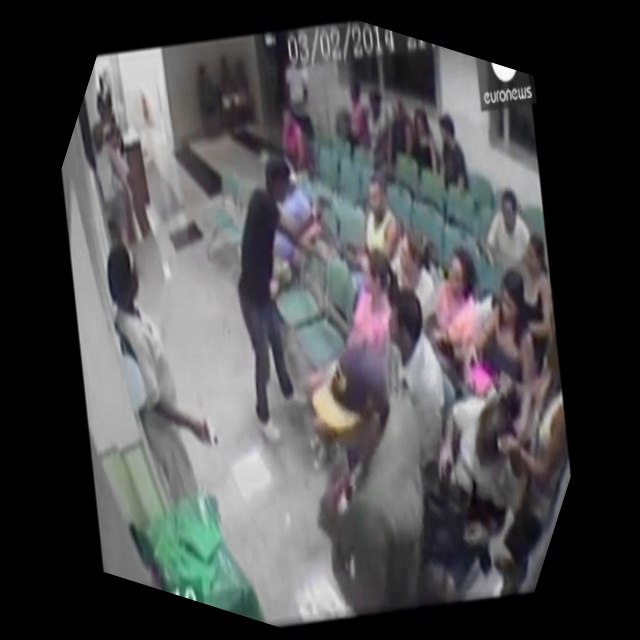gun: (305, 184, 340, 219)
